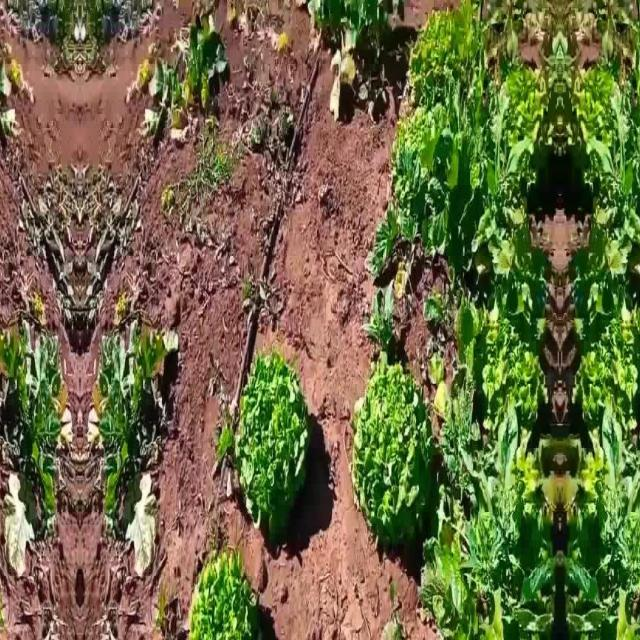healthy: (351, 352, 439, 548), (438, 301, 546, 435), (232, 354, 306, 540), (574, 301, 640, 435), (408, 2, 486, 98), (182, 552, 258, 640), (498, 64, 560, 144), (560, 64, 622, 144), (385, 100, 447, 154), (634, 2, 640, 98)
